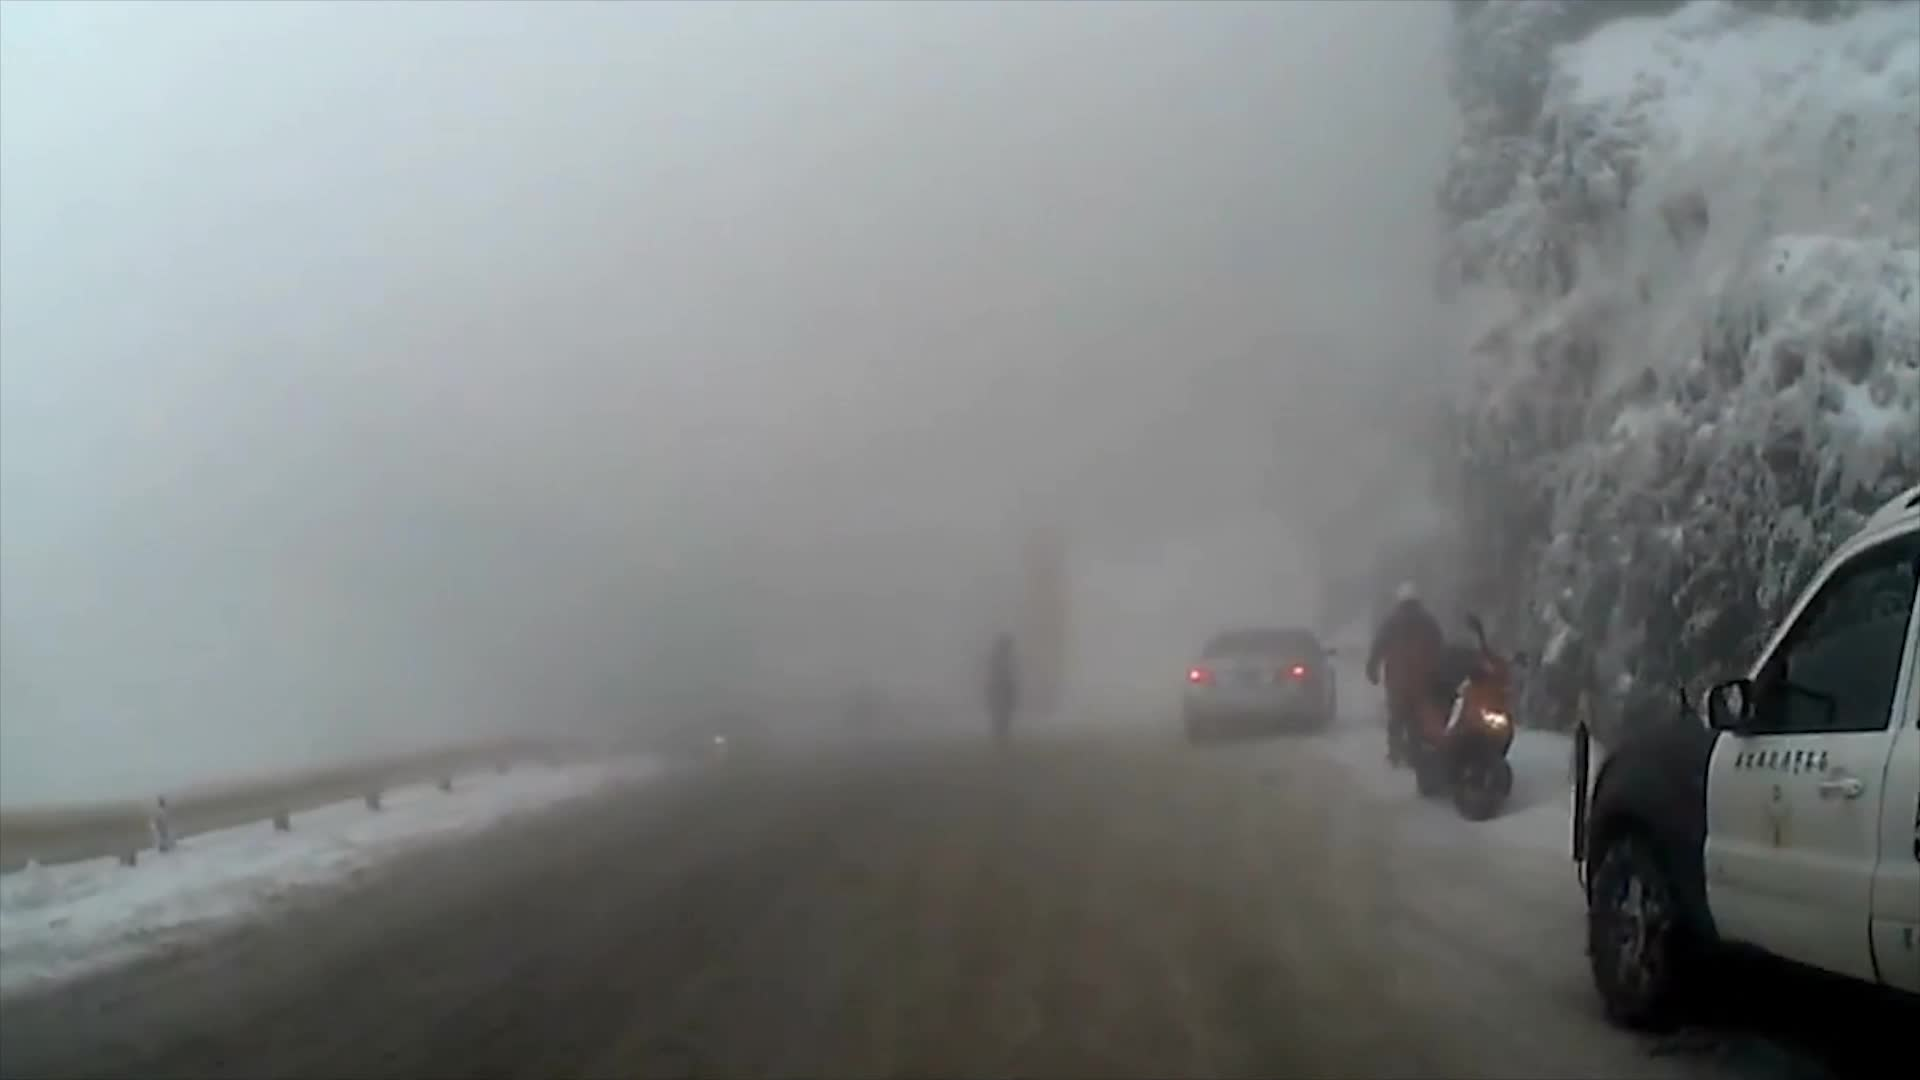pedestrian: (1362, 575, 1454, 767), (985, 632, 1020, 757)
vehicle: (1570, 487, 1917, 1080), (1177, 620, 1338, 742)
